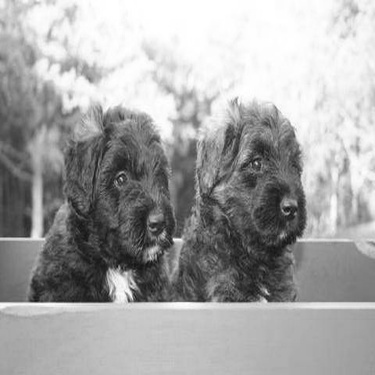dog: (30, 92, 177, 313), (172, 85, 311, 314)
